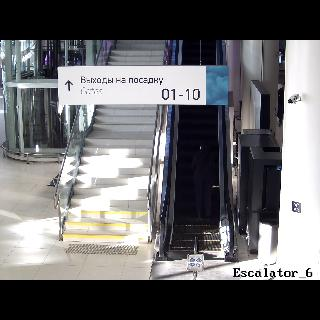normal: (190, 140, 218, 218)
